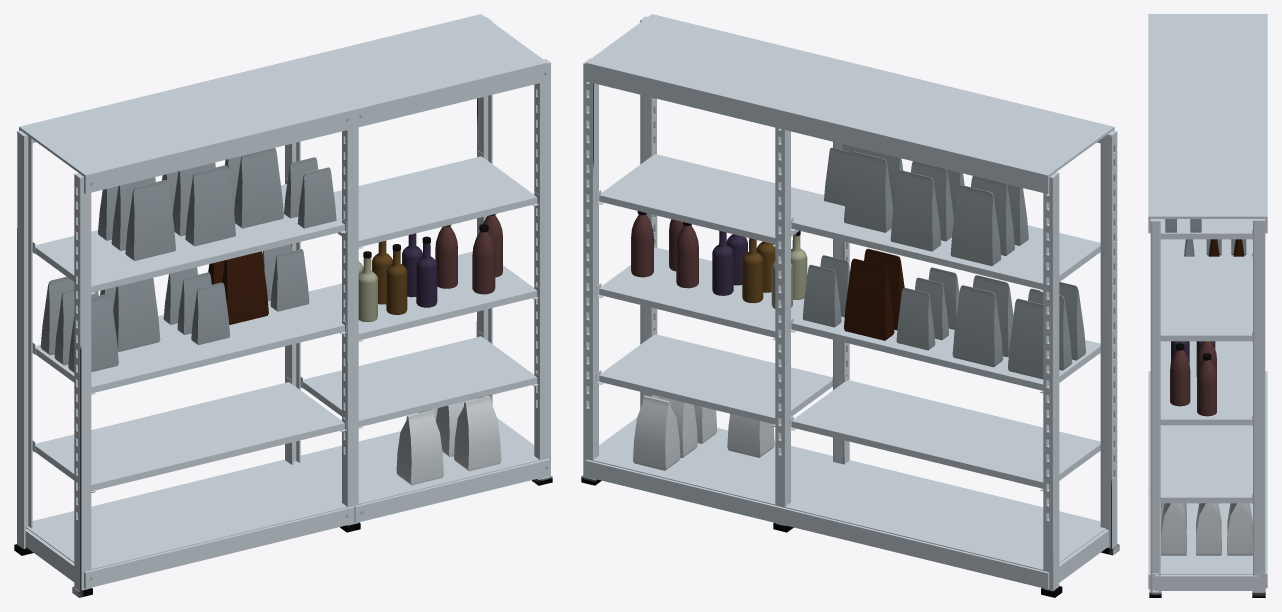
The model's file is LC_3088_Shelf_LOD3.fbx.
3 renders of one model, left to right at view 1: azimuth 30°, elevation 25°; view 2: azimuth 150°, elevation 25°; view 3: azimuth 270°, elevation 25°, orthographic. The views are drawn at different scales.
Visible parts, largest first — view 1: LC_3088_S_LOD3; view 2: LC_3088_S_LOD3; view 3: LC_3088_S_LOD3.
Part boxes in pixels (left/top/right/bottom): LC_3088_S_LOD3: left=14, top=14, right=552, bottom=597; LC_3088_S_LOD3: left=581, top=14, right=1119, bottom=597; LC_3088_S_LOD3: left=1148, top=14, right=1267, bottom=597.
Size of the model in its own units: 216 by 183 by 52.43.
Materials: 1 (1 with a texture image).
